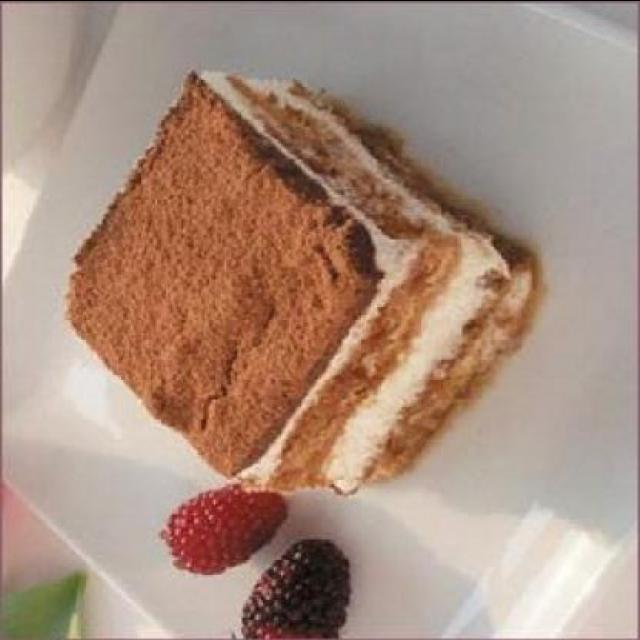Tiramisu: (67, 66, 539, 497)
